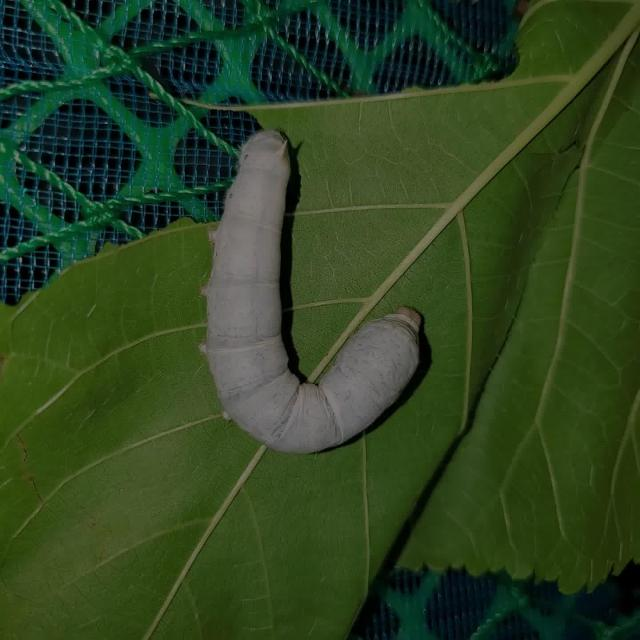Healthy: (200, 119, 440, 469)
